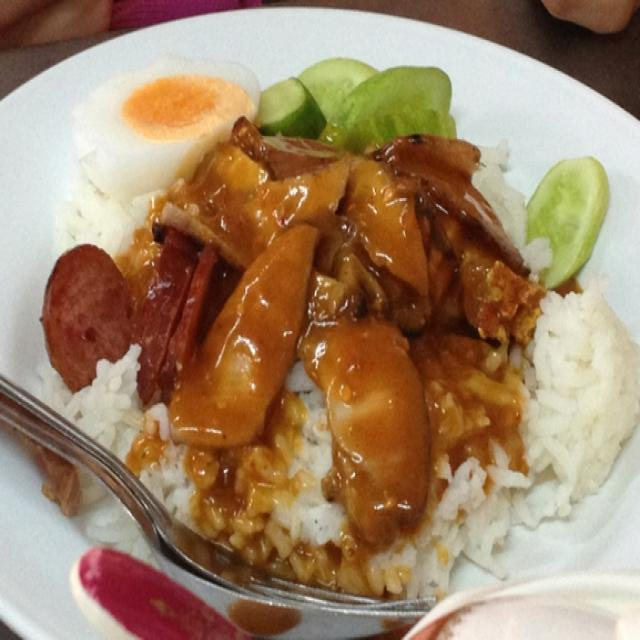猪肉菜式: (38, 41, 636, 618)
